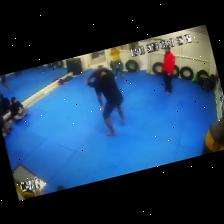person: (88, 71, 125, 136), (162, 46, 175, 95), (110, 47, 124, 78), (86, 67, 110, 84), (10, 97, 27, 120), (0, 92, 13, 116), (0, 113, 12, 137), (0, 74, 8, 89), (15, 71, 21, 76)
